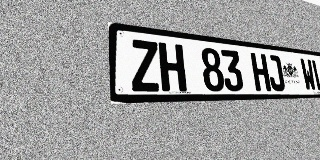3: (220, 49, 244, 91)
8: (200, 47, 225, 91)
H: (158, 42, 187, 91), (250, 53, 271, 91)
J: (266, 54, 286, 91)
L: (311, 59, 320, 91)
W: (300, 58, 317, 91)
Z: (130, 39, 161, 92)
